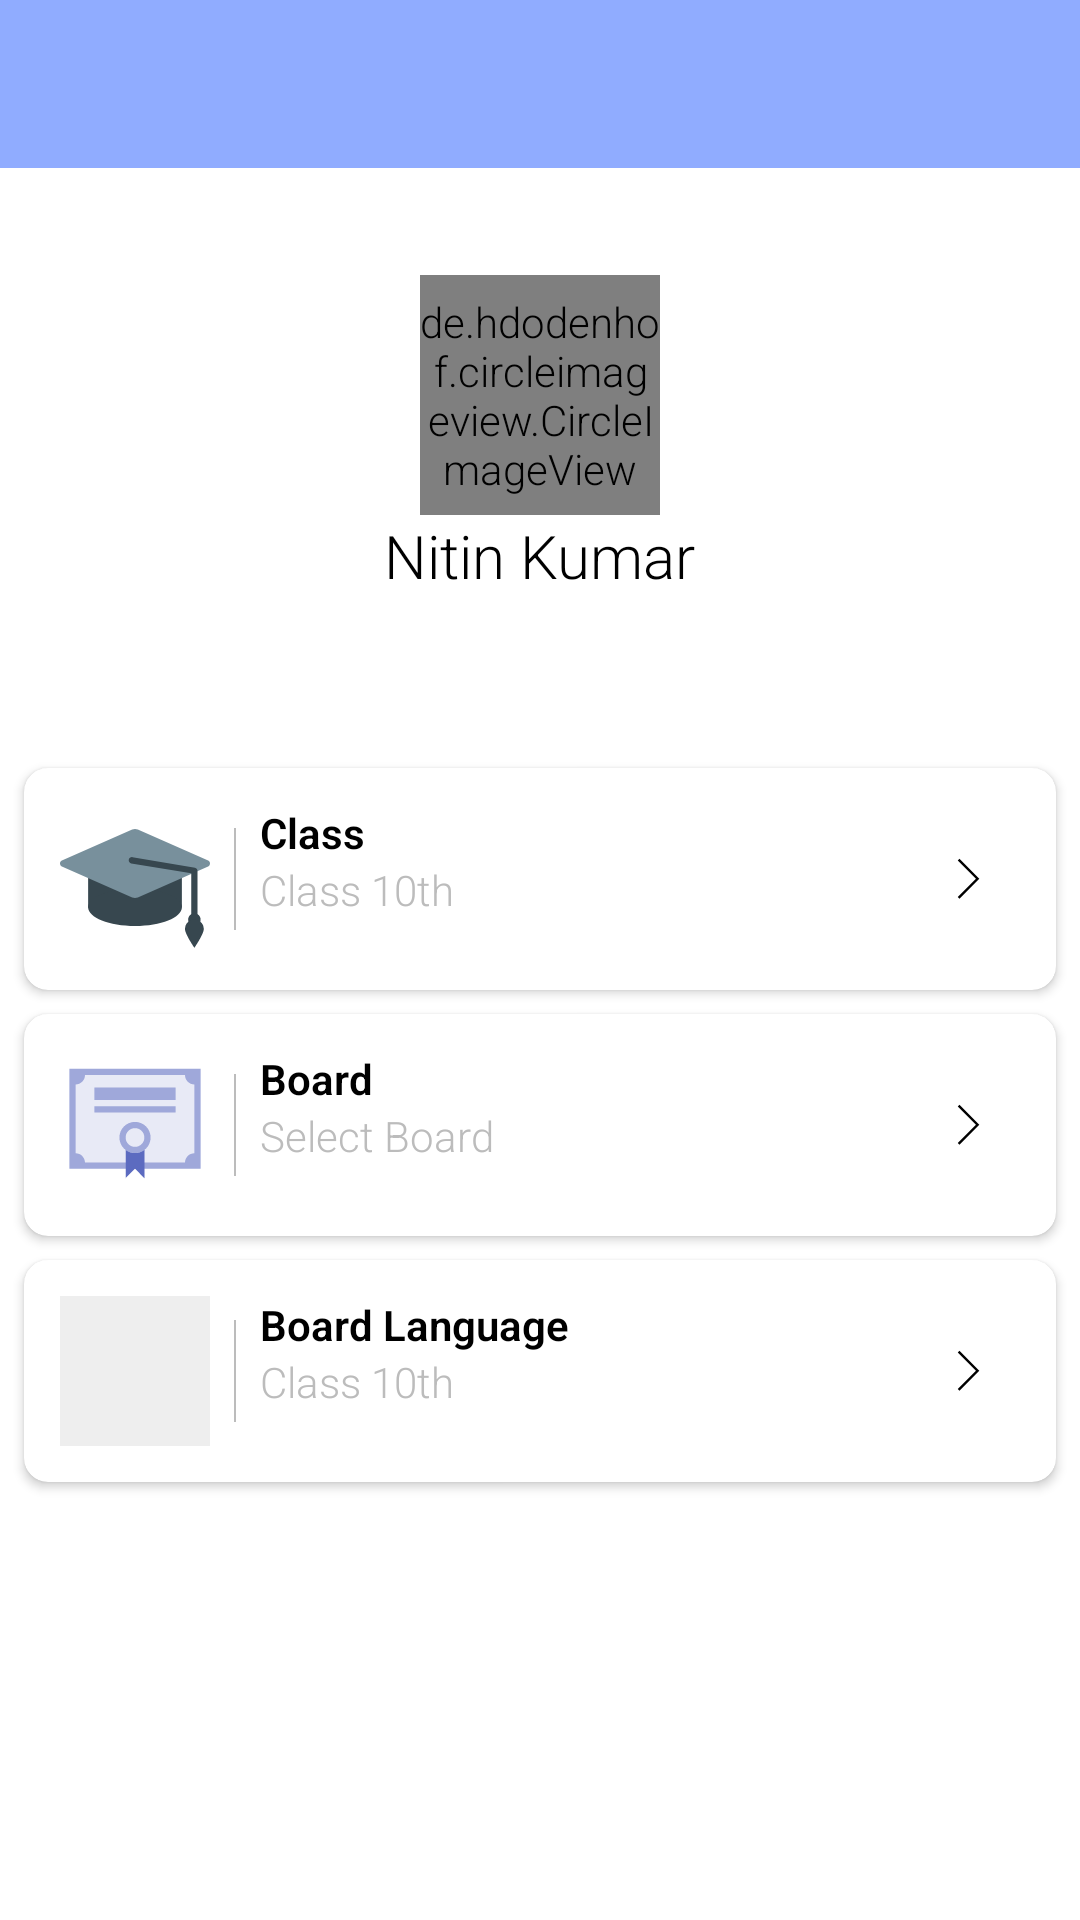

Screen size 1080x1920. Icon name, then its center in pixels as (x,y):
diploma: (135,1123)
graduation cap: (135,888)
more than: (968,879), (968,1125), (968,1371)
